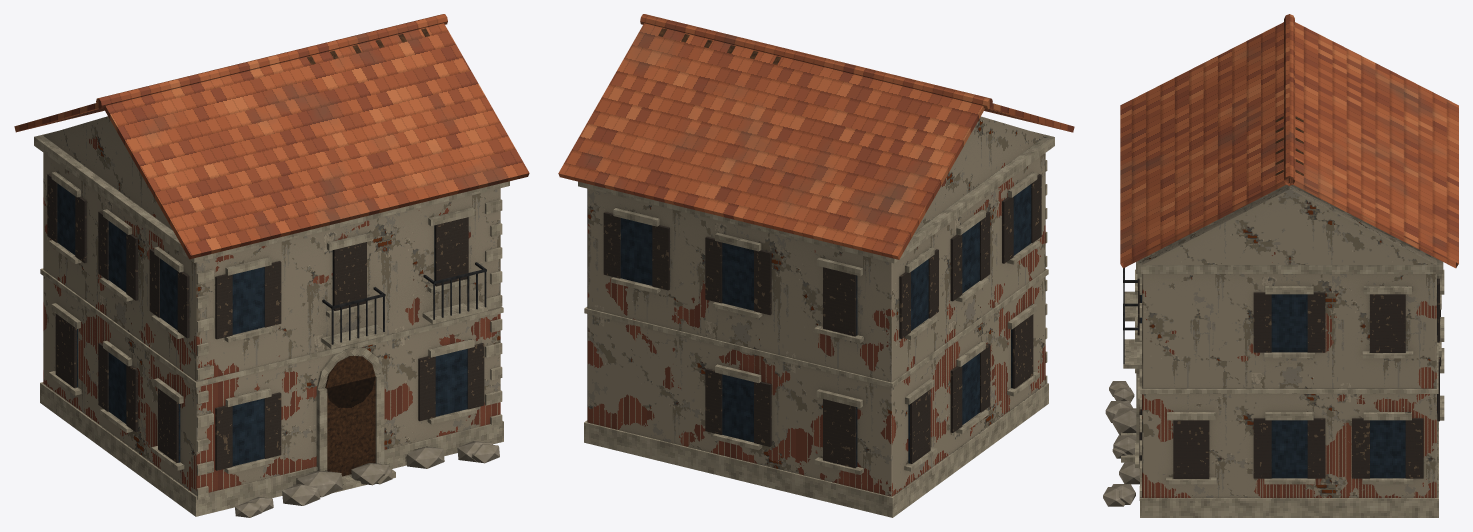
Rendered from siracusa_ruin.glb.
The picture shows the model from 3 angles, left to right: view 1: azimuth 30°, elevation 25°; view 2: azimuth 150°, elevation 25°; view 3: azimuth 270°, elevation 25°; orthographic projection. The views are drawn at different scales.
Visible parts, largest first — view 1: siracusa_ruin; view 2: siracusa_ruin; view 3: siracusa_ruin.
Boxes of the visible parts, x1,y1,x2,y2 form: siracusa_ruin: (14, 14, 529, 517); siracusa_ruin: (558, 14, 1074, 517); siracusa_ruin: (1103, 14, 1458, 517).
Size of the model in its own units: 9.1 by 9.29 by 8.45.
9 materials, 9 textured.
